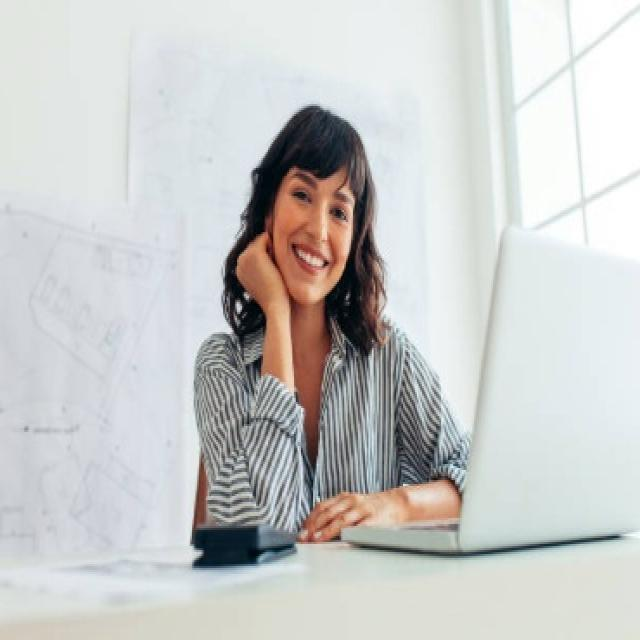adult: (173, 99, 459, 542)
